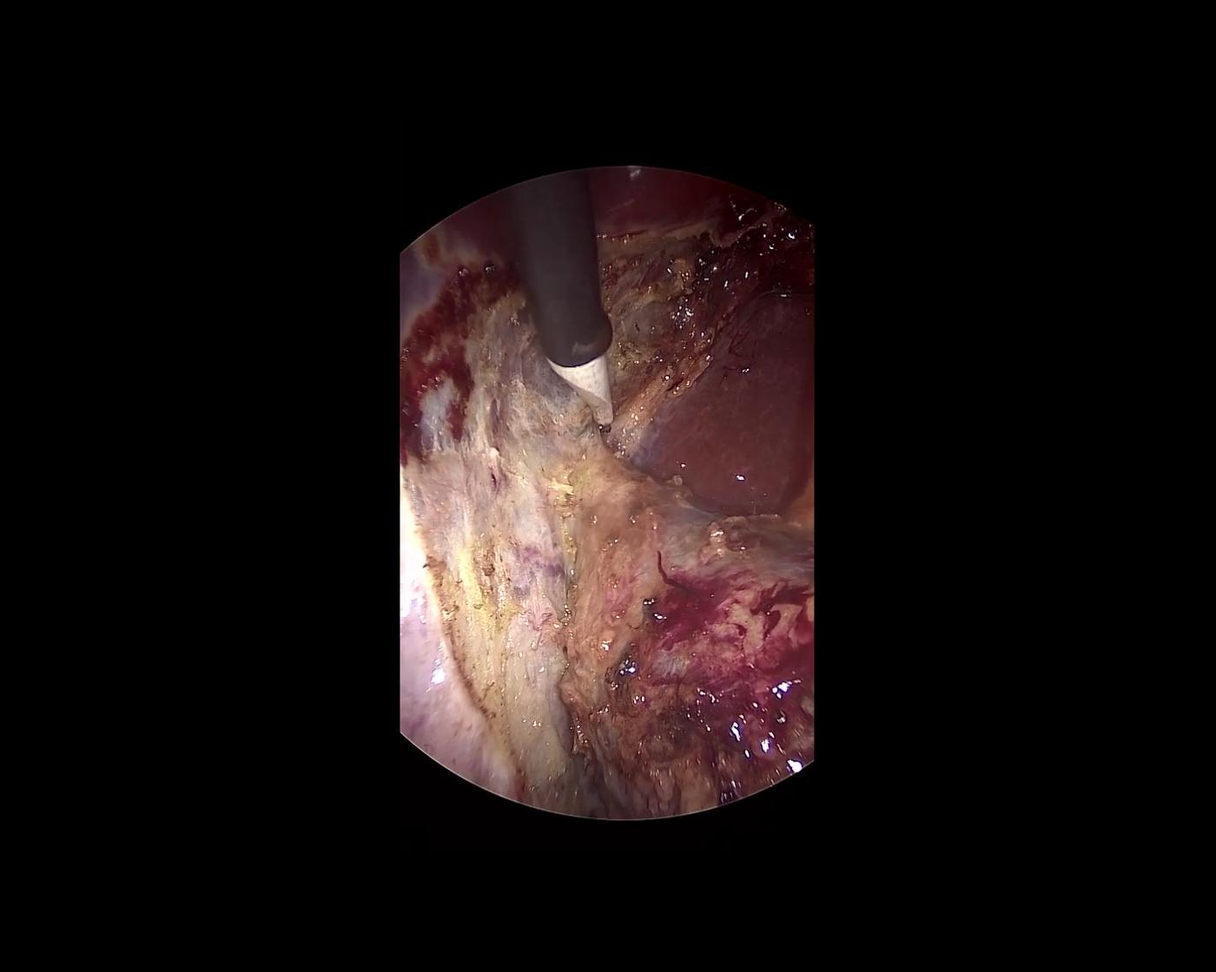Cautery: (497, 169, 646, 437)
Gallbladder: (562, 441, 814, 817)
Liver: (627, 281, 814, 512), (358, 184, 529, 344), (590, 152, 725, 234)
